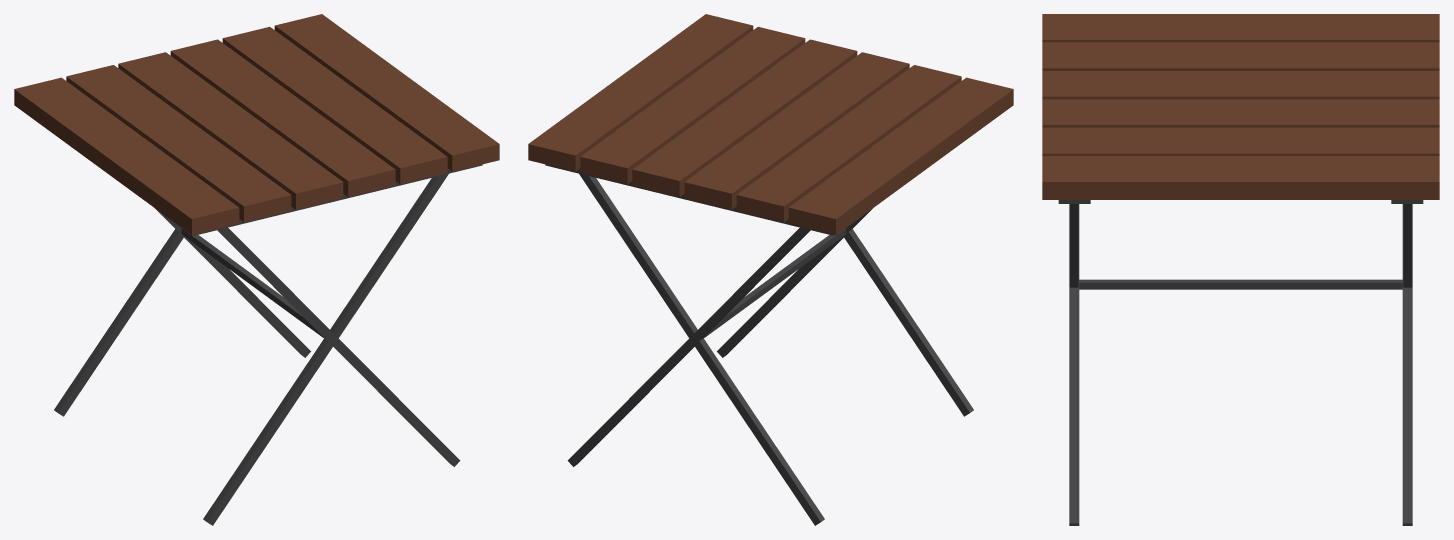
Rendered from Table_04.fbx.
3 renders of one model, left to right at view 1: azimuth 30°, elevation 25°; view 2: azimuth 150°, elevation 25°; view 3: azimuth 270°, elevation 25°, orthographic. The views are drawn at different scales.
Visible parts, largest first — view 1: Table_04; view 2: Table_04; view 3: Table_04.
Boxes of the visible parts, bbox=[...] form: Table_04: bbox=[14, 14, 499, 525]; Table_04: bbox=[528, 14, 1013, 525]; Table_04: bbox=[1042, 14, 1439, 525].
Bounding box in the file's own units: 80 × 80.43 × 80.
